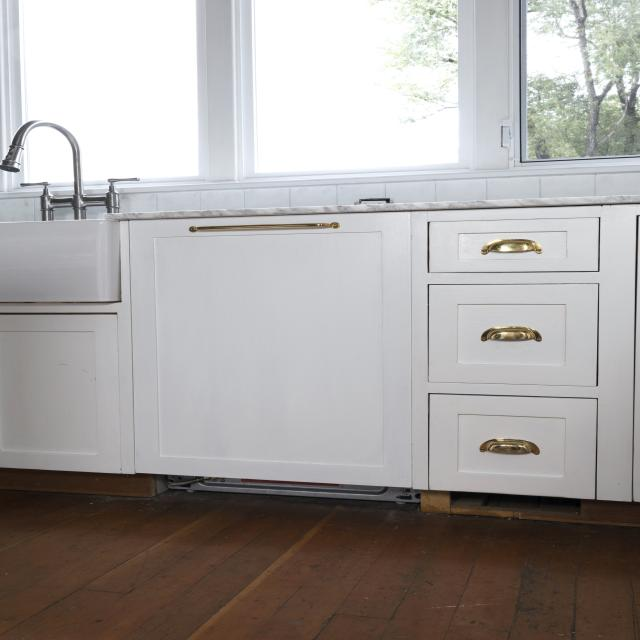dishwasher: (98, 196, 440, 526)
